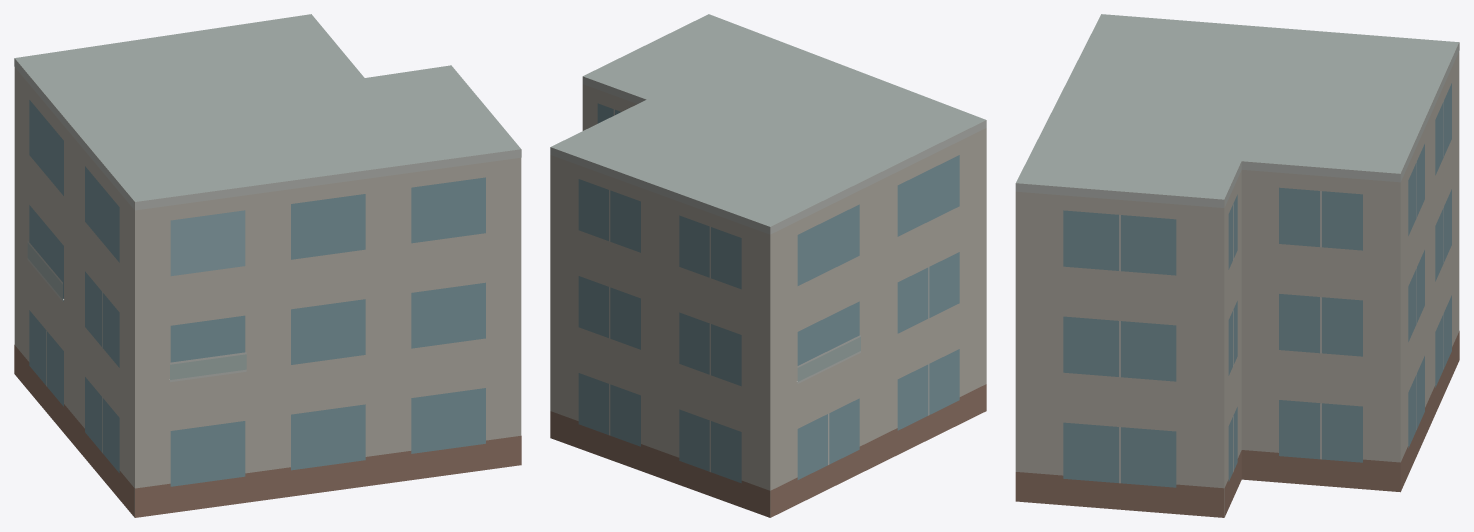
File: survey-upis-32801113.glb
3 views of the same model, side by side, from view 1: azimuth 30°, elevation 25°; view 2: azimuth 150°, elevation 25°; view 3: azimuth 270°, elevation 25° (orthographic). The views are drawn at different scales.
Visible parts, largest first — view 1: survey-upis-32801113.tmp; view 2: survey-upis-32801113.tmp; view 3: survey-upis-32801113.tmp.
Boxes of the visible parts, <box> form: survey-upis-32801113.tmp: <box>14,14,521,517</box>; survey-upis-32801113.tmp: <box>550,14,986,517</box>; survey-upis-32801113.tmp: <box>1015,14,1459,517</box>.
Bounding box in the file's own units: 11.46 × 9.15 × 11.57.
